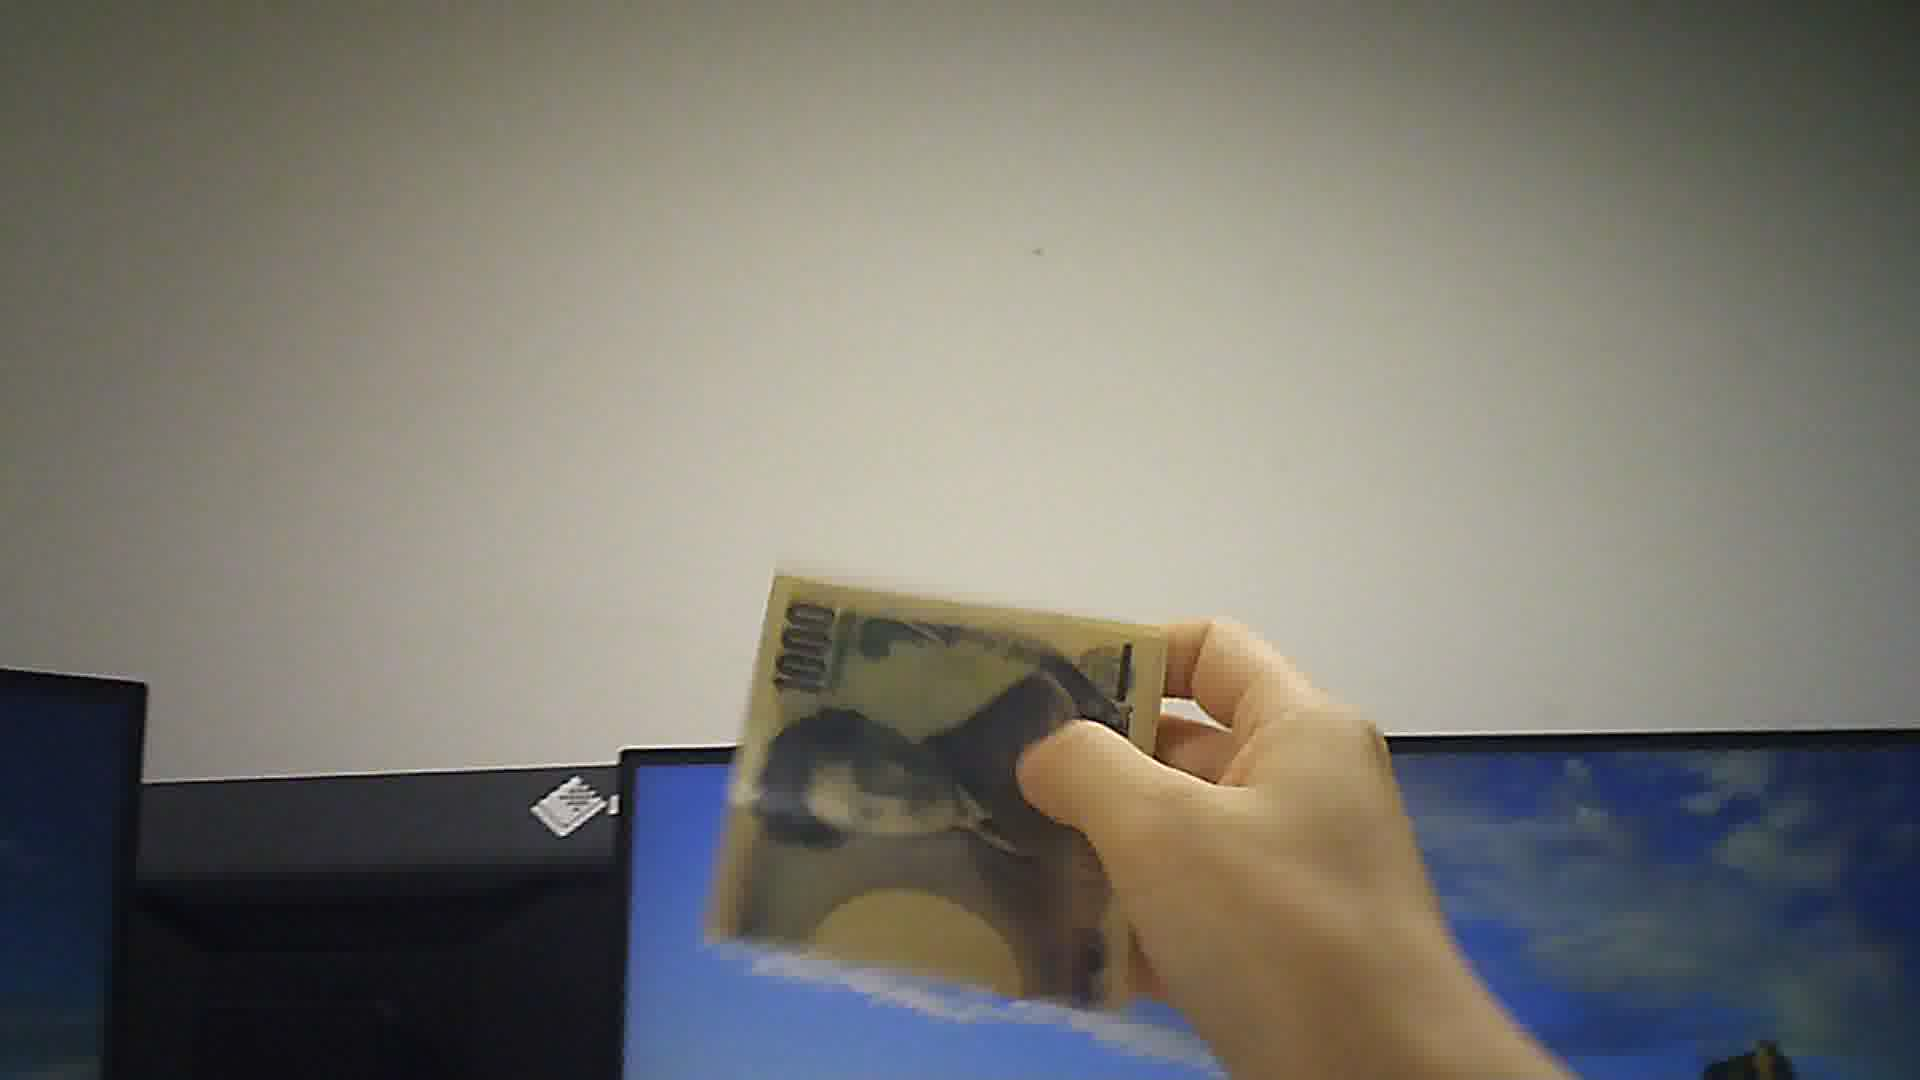1,000 Yen: (723, 547, 1182, 1033)
